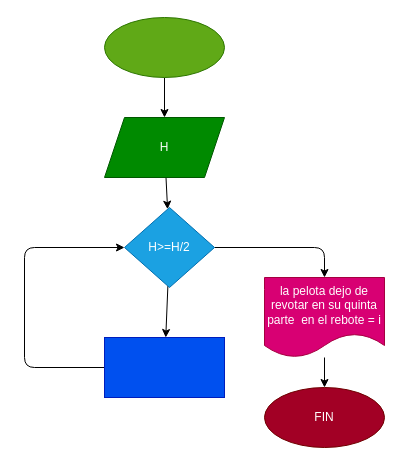
Some shapes in this 402 by 465 pixel diagram are drawn without their labels. The shapes that lost their labels are listed below. From the top down, each one's centre as x and y in pixels, then its label:
[164,47]: INICIO
[164,367]: H/0.1 i=i+1
